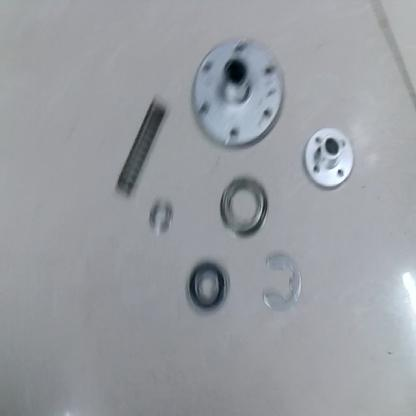FOD: (190, 39, 283, 149), (114, 95, 167, 199), (303, 125, 356, 190), (219, 174, 270, 240), (260, 251, 306, 314), (185, 257, 230, 313), (147, 198, 173, 235)
